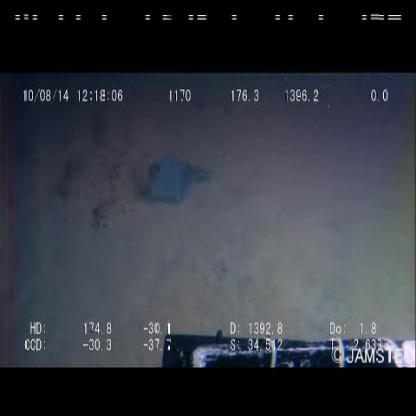Rov: (158, 315, 416, 370)
Rác: (134, 139, 219, 217)
